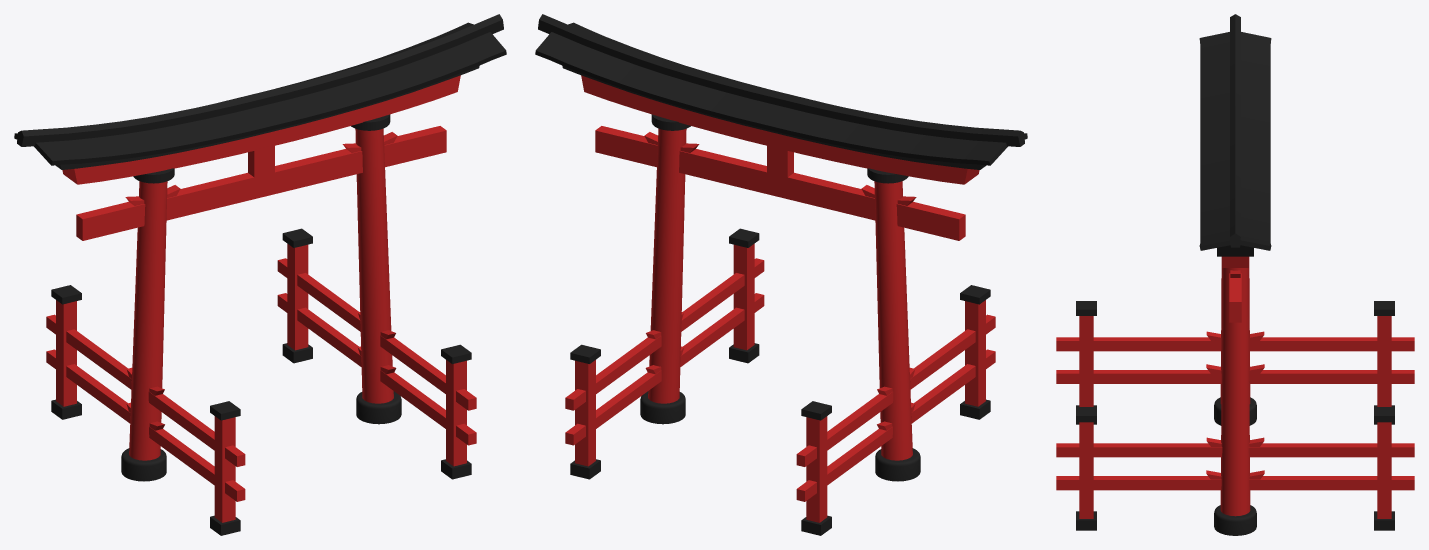
Rendered from char.glb.
3 views of the same model, side by side, from view 1: azimuth 30°, elevation 25°; view 2: azimuth 150°, elevation 25°; view 3: azimuth 270°, elevation 25° (orthographic). The views are drawn at different scales.
Parts seen in each view (by area): view 1: torii; view 2: torii; view 3: torii.
Boxes of the visible parts, box(x1,y1,x2,y2) form: torii: box(14, 14, 506, 535); torii: box(535, 14, 1027, 535); torii: box(1056, 14, 1414, 535).
Size of the model in its own units: 11.18 by 8.22 by 7.65.
Materials: 1 (1 with a texture image).
